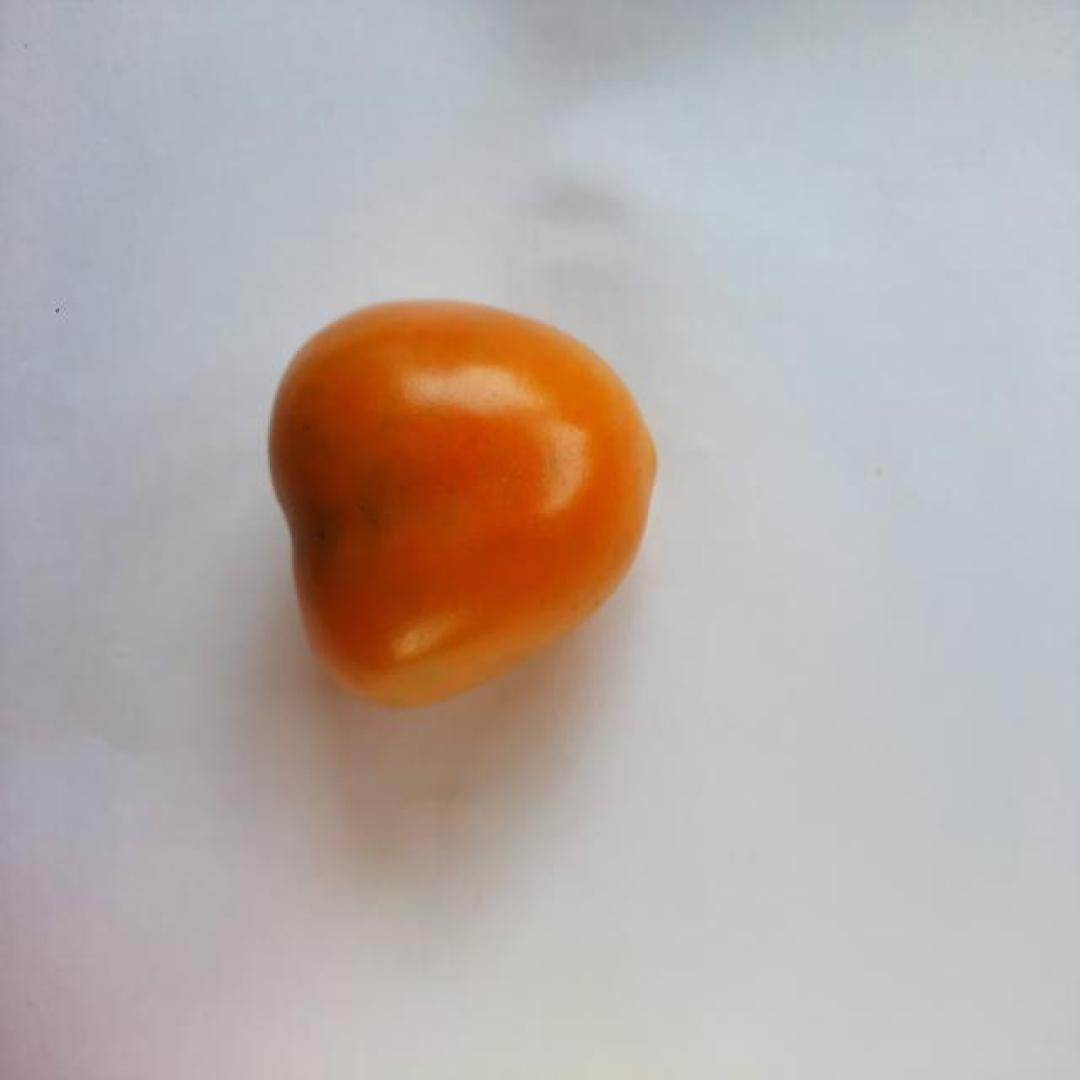setengah_matang: (266, 297, 660, 705)
